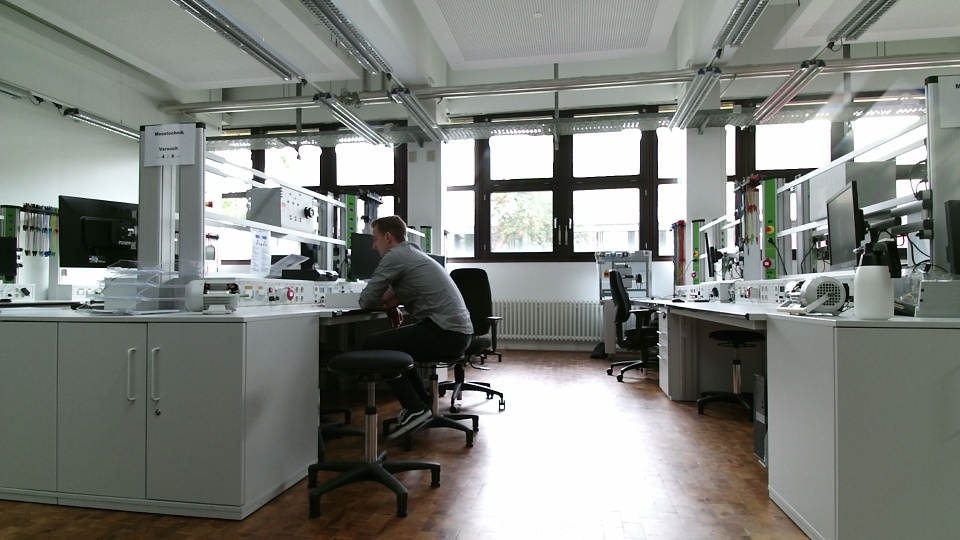Person: (343, 207, 482, 436)
